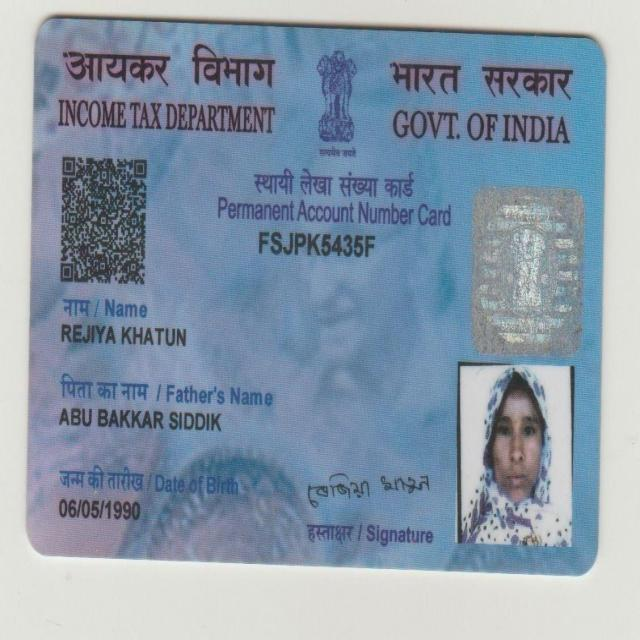pan_card: (32, 26, 603, 572)
